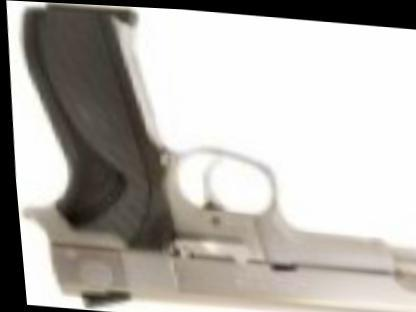pistol: (14, 0, 415, 311)
